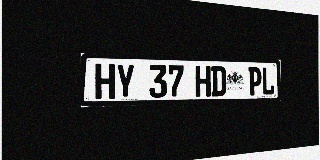3: (149, 65, 167, 98)
7: (167, 65, 184, 97)
D: (211, 66, 226, 96)
H: (95, 63, 115, 99), (195, 66, 211, 97)
L: (262, 67, 274, 95)
P: (248, 67, 261, 95)
Y: (116, 64, 135, 99)
